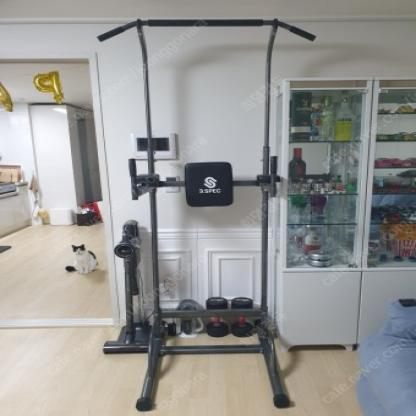chinning dipping: (97, 17, 316, 406)
